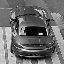mobil: (9, 4, 55, 60)
